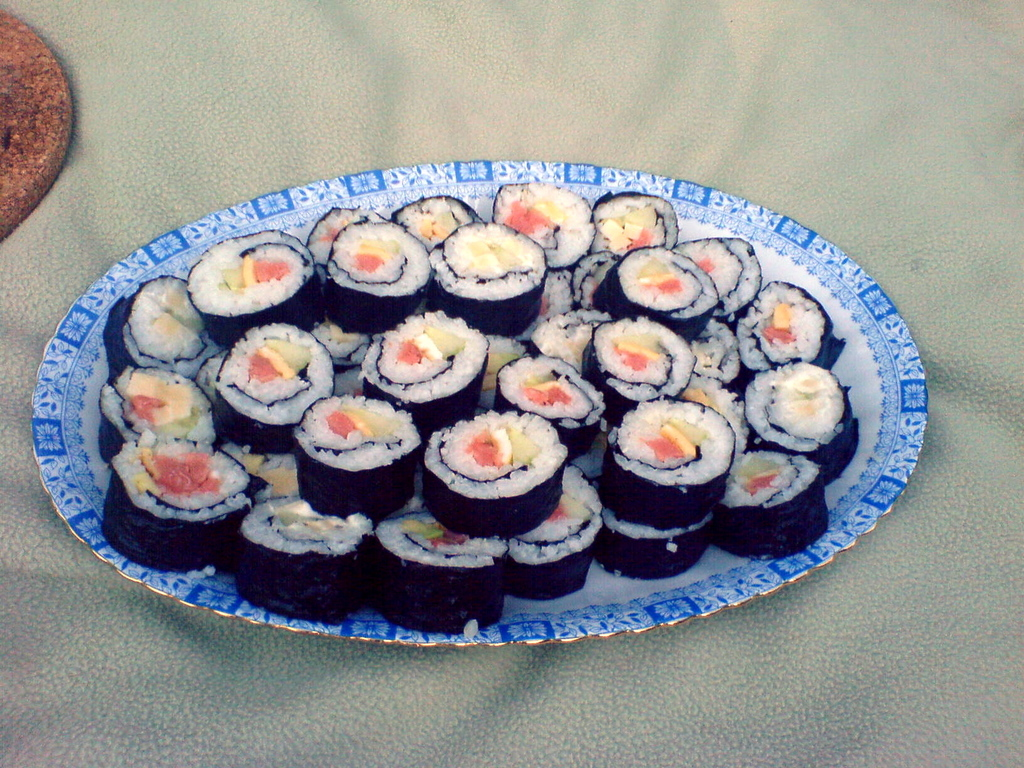sushi: (105, 180, 856, 633), (104, 182, 858, 633), (186, 220, 316, 348), (613, 408, 729, 545), (220, 324, 348, 431)
